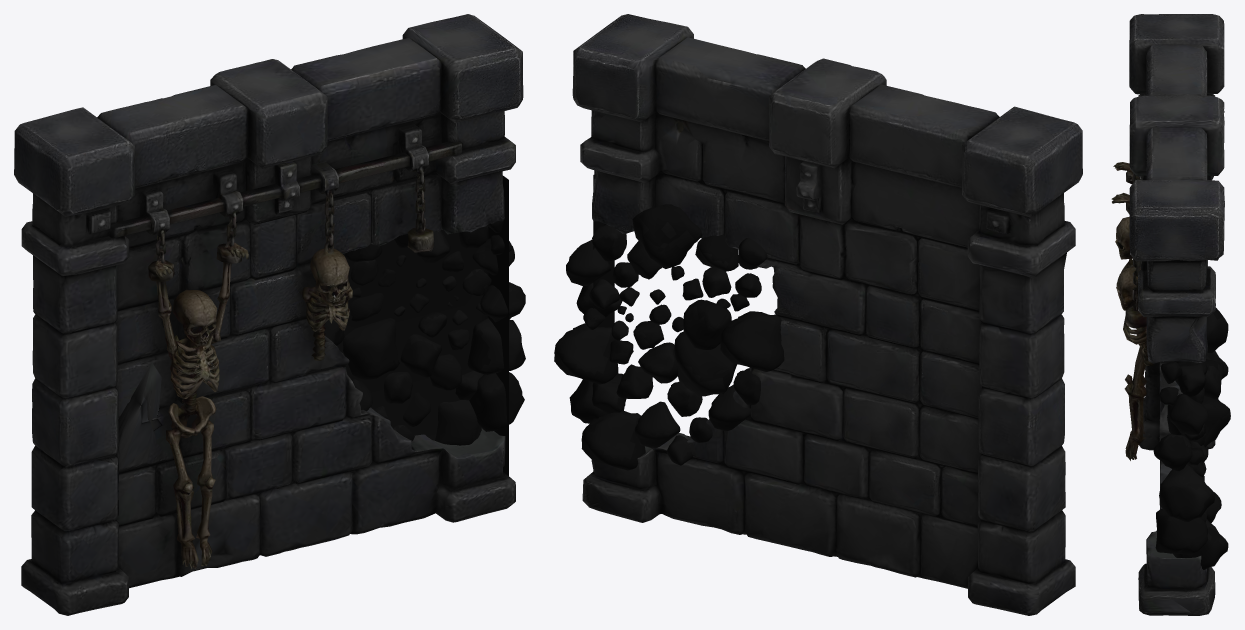
The model's file is Wall_Skeletons.fbx.
3 views of the same model, side by side, from view 1: azimuth 30°, elevation 25°; view 2: azimuth 150°, elevation 25°; view 3: azimuth 270°, elevation 25° (orthographic). The views are drawn at different scales.
Visible parts, largest first — view 1: Wall_Skeletons.001; view 2: Wall_Skeletons.001; view 3: Wall_Skeletons.001.
Boxes of the visible parts, <box> form: Wall_Skeletons.001: <box>14,14,525,615</box>; Wall_Skeletons.001: <box>554,14,1082,615</box>; Wall_Skeletons.001: <box>1111,14,1230,615</box>.
Size of the model in its own units: 335 by 304 by 79.93.
1 material, 1 textured.
